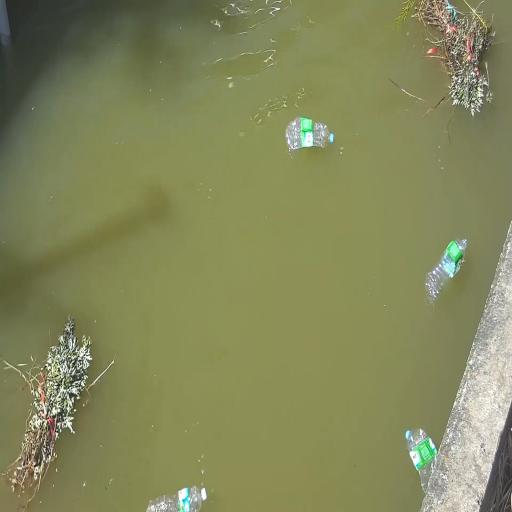plastic: (426, 239, 467, 303), (406, 429, 437, 493), (286, 118, 333, 151), (147, 486, 206, 511), (200, 488, 207, 502), (329, 133, 334, 143)
twig: (11, 317, 94, 490), (397, 0, 495, 116)
